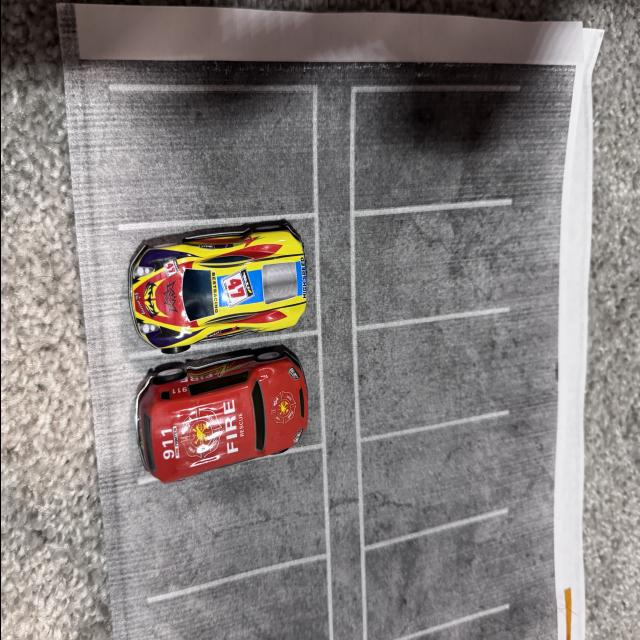car: (132, 328, 340, 486), (117, 210, 315, 362)
